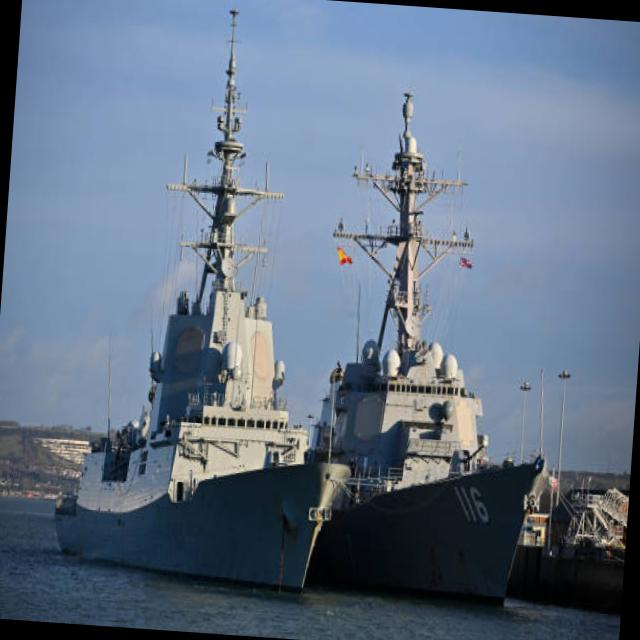Military: (55, 68, 352, 594), (306, 92, 544, 600)
